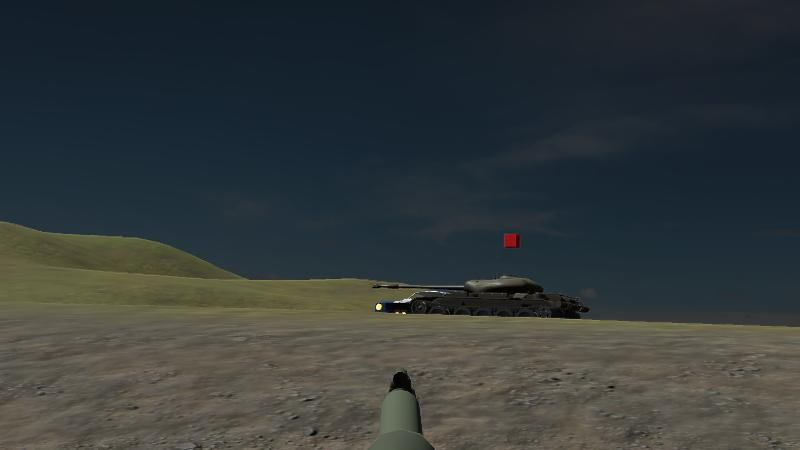Tank: (370, 273, 595, 328)
